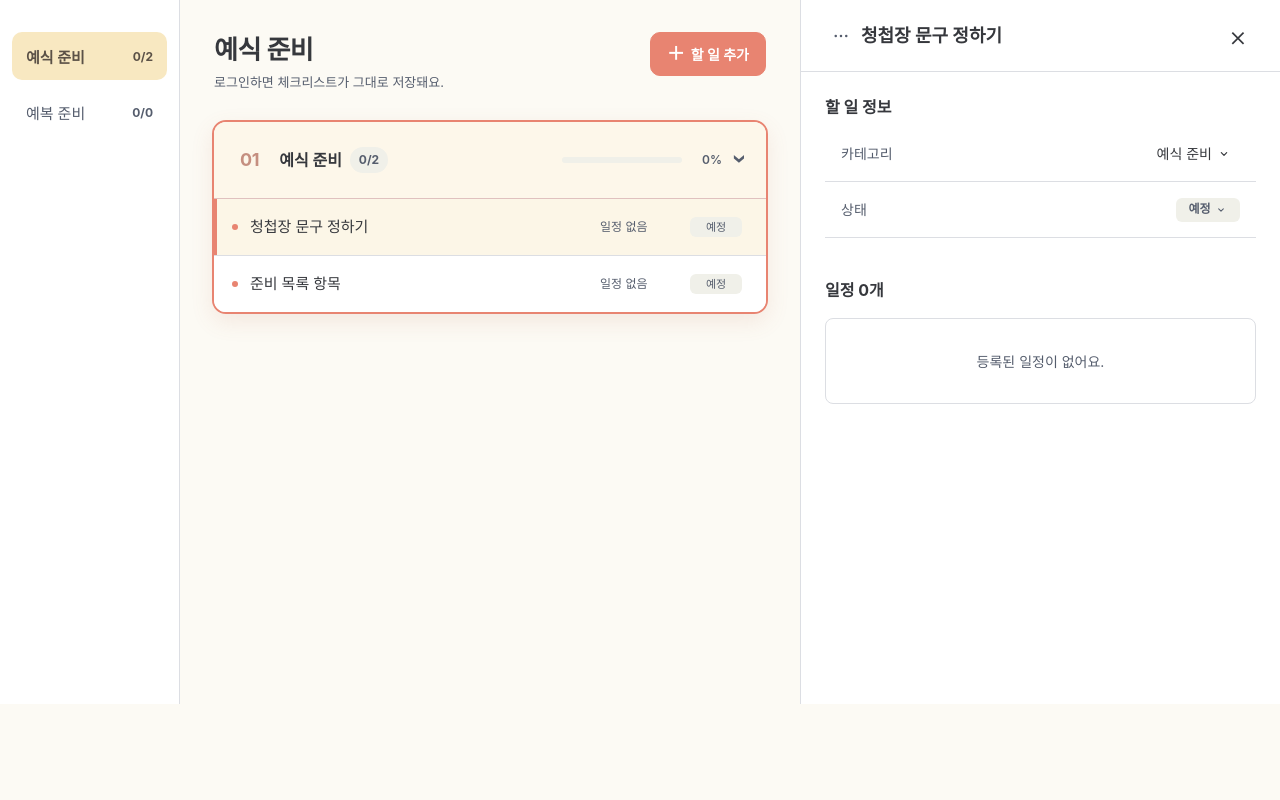
Checklist 할 일 편집 › 남은 일정 조회 실패는 완료 PUT 없이 팝오버에 접근 가능한 오류를 표시한다
This screenshot has width=1280, height=800.
What coordinates should you click on to do the following:
click the button with aria-label "상태 변경, 현재 예정"
I would click on:
 (1208, 210)
Its box is [1176,198,1240,222].
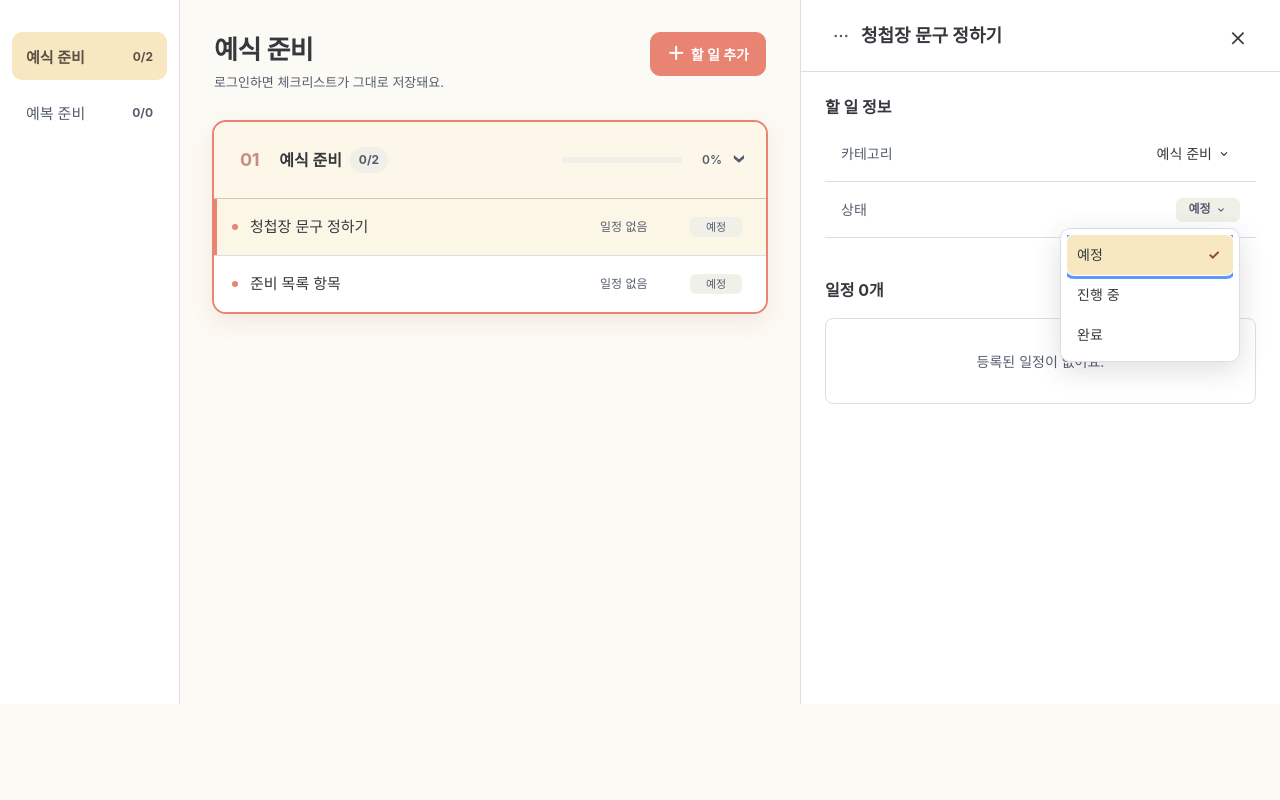
What coordinates should you click on to do the following:
click the option "완료"
I would click on:
 (1150, 335)
Its box is [1067,315,1233,355].
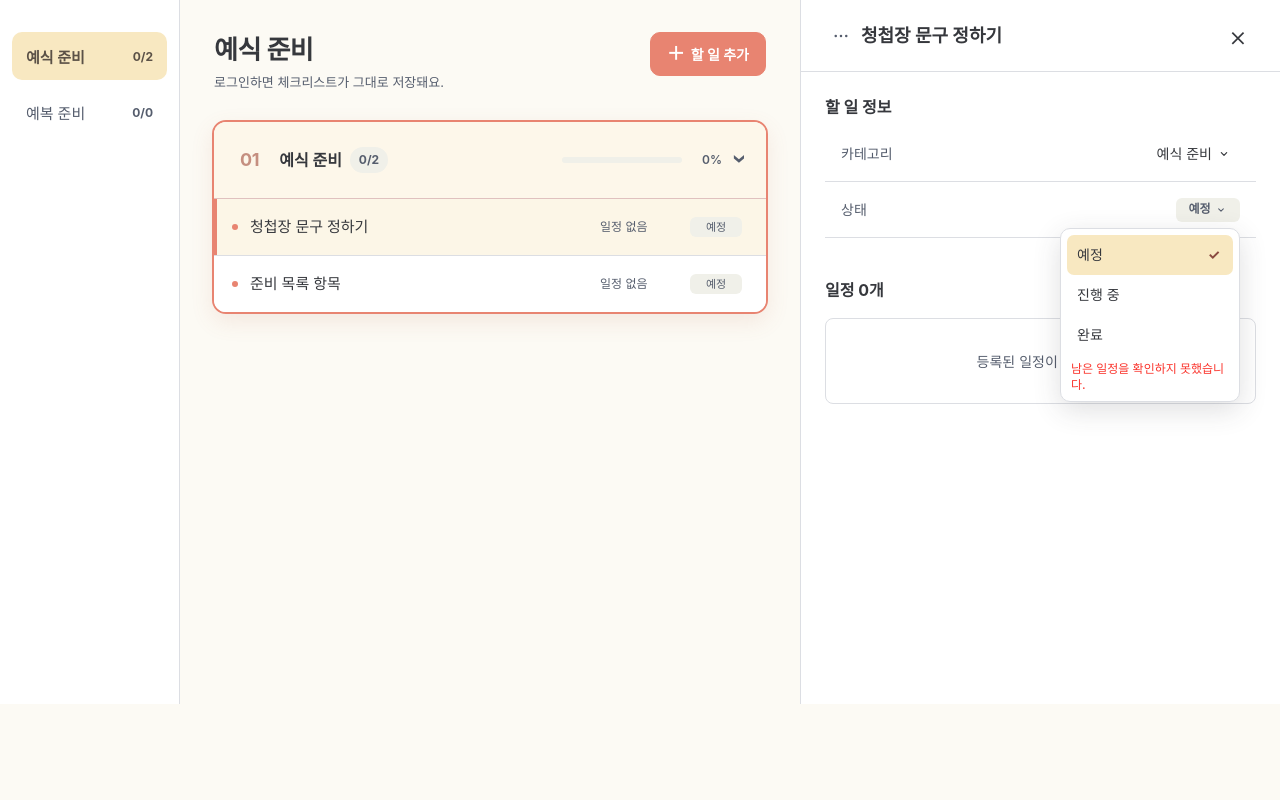
Now the list named "상태 선택" is shown, box [1067,235,1233,355]
Now the message reads "남은 일정을 확인하지 못했습니다.", box [1071,361,1224,392]
